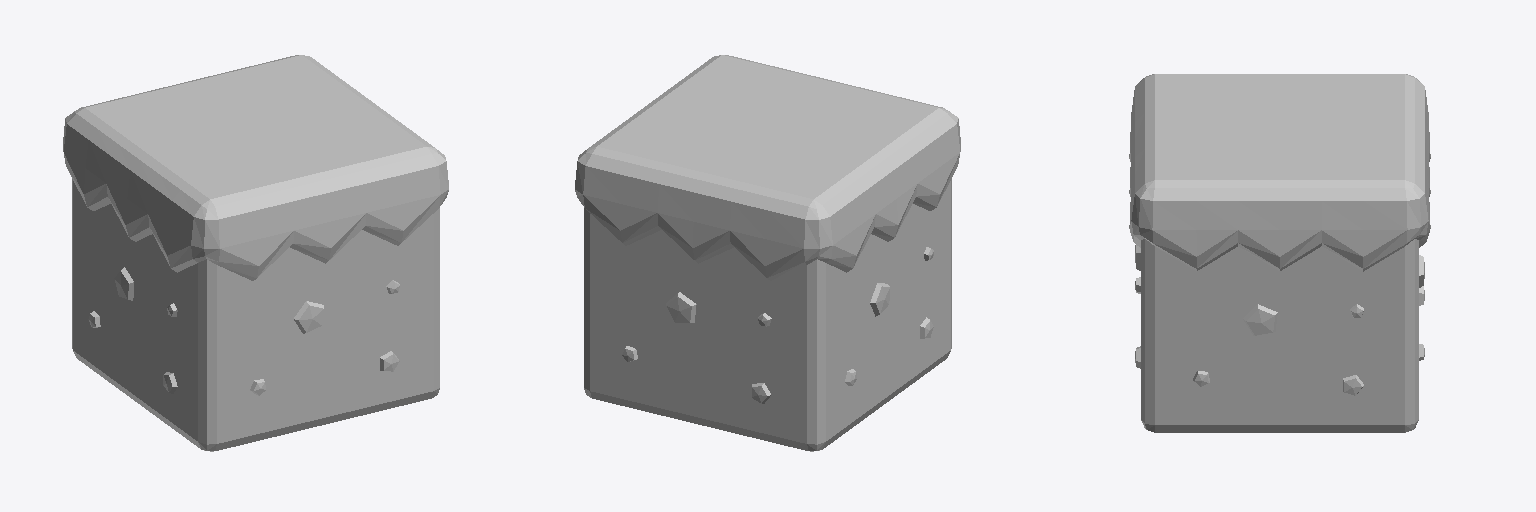
The model's file is dirt_with_grass.obj.
The picture shows the model from 3 angles: view 1: azimuth 30°, elevation 25°; view 2: azimuth 150°, elevation 25°; view 3: azimuth 270°, elevation 25°; orthographic projection.
Visible parts, largest first — view 1: dirt_with_grass; view 2: dirt_with_grass; view 3: dirt_with_grass.
Part boxes in pixels (bbox=[...]): dirt_with_grass: bbox=[63, 55, 448, 451]; dirt_with_grass: bbox=[575, 55, 960, 451]; dirt_with_grass: bbox=[1129, 74, 1430, 432].
Bounding box in the file's own units: 2 × 1.89 × 2.